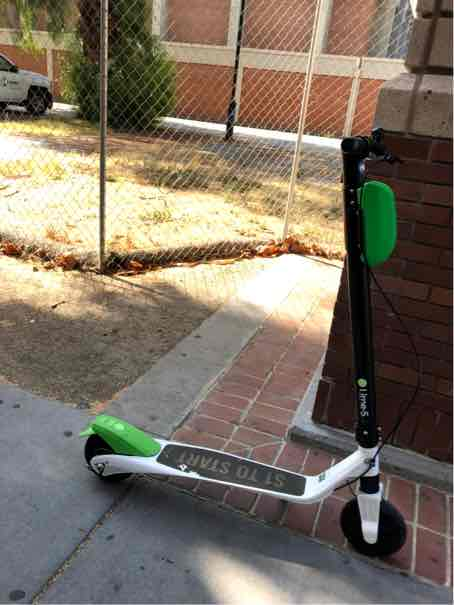scooter: (64, 112, 424, 574)
